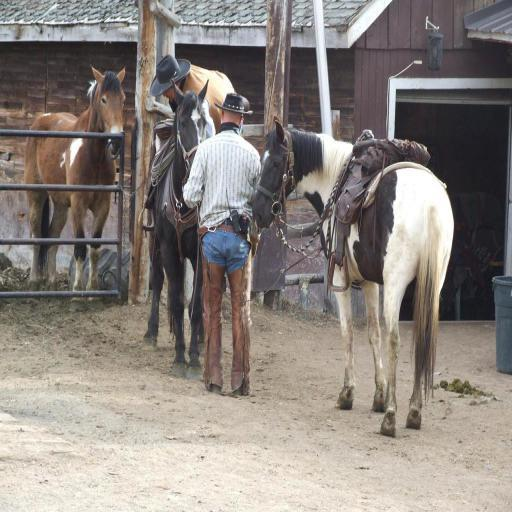horse: (251, 115, 455, 438), (24, 64, 126, 312), (142, 74, 210, 384)
